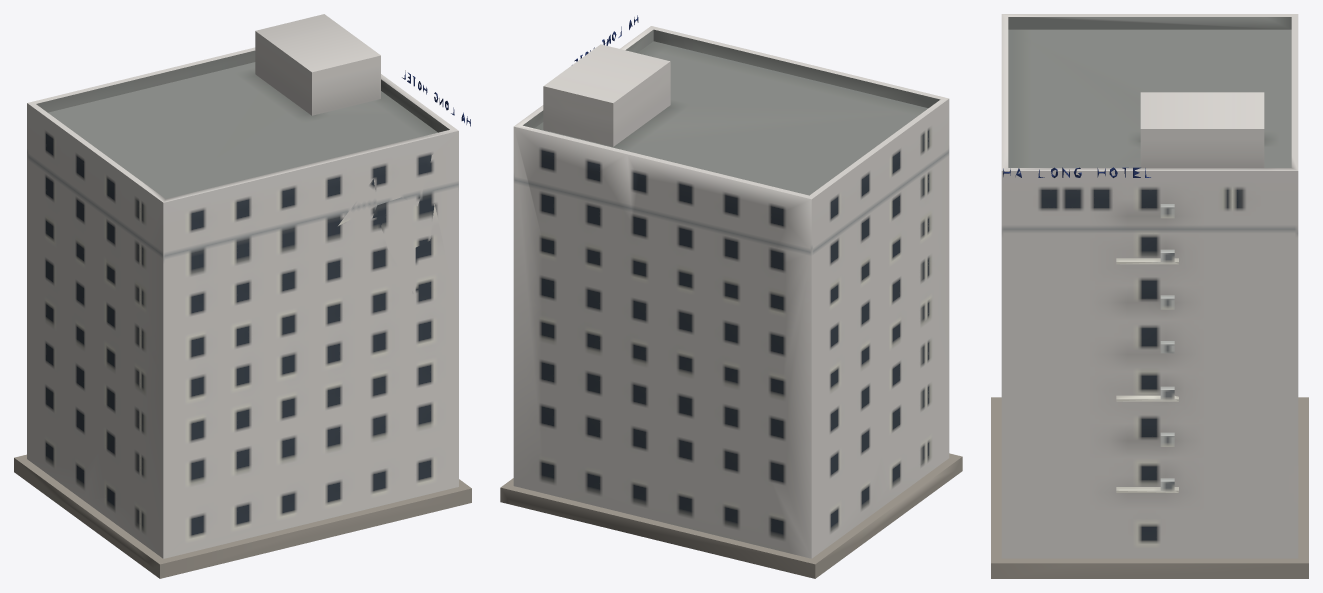
Rendered from nha_khach_ha_long.far.glb.
3 renders of one model, left to right at view 1: azimuth 30°, elevation 25°; view 2: azimuth 150°, elevation 25°; view 3: azimuth 270°, elevation 25°, orthographic. The views are drawn at different scales.
Parts seen in each view (by area): view 1: nha_khach_ha_long; view 2: nha_khach_ha_long; view 3: nha_khach_ha_long.
Boxes of the visible parts, x1=… form: nha_khach_ha_long: x1=14, y1=14, x2=471, y2=578; nha_khach_ha_long: x1=500, y1=15, x2=962, y2=578; nha_khach_ha_long: x1=991, y1=14, x2=1308, y2=578.
Bounding box in the file's own units: 22.9 × 27.8 × 18.27.
Materials: 3 (3 with a texture image).
